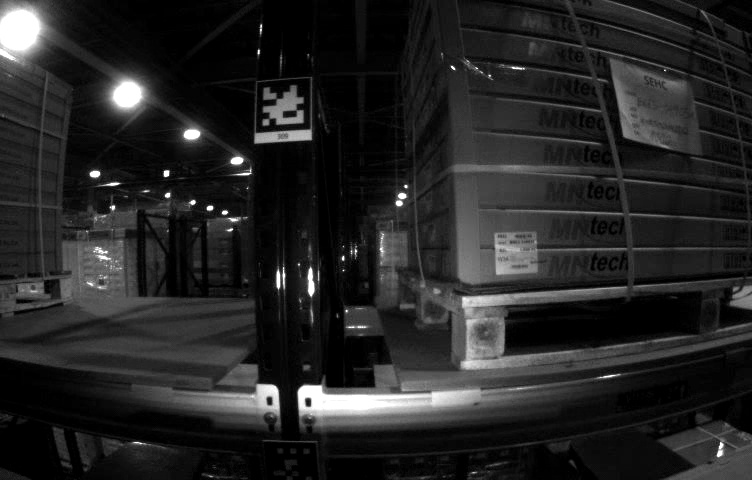True Barcode: (493, 230, 539, 274)
